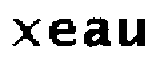a: (82, 16, 112, 49)
e: (47, 17, 80, 50)
u: (115, 14, 150, 50)
x: (12, 13, 41, 49)
